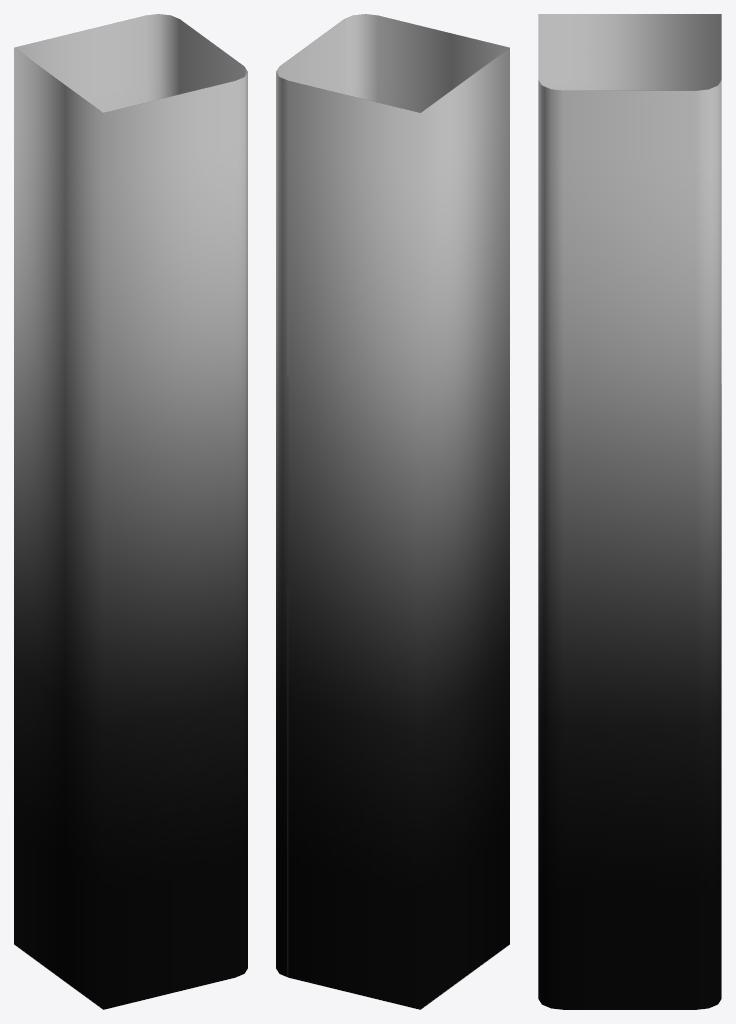
Rendered from Column.fbx.
3 renders of one model, left to right at view 1: azimuth 30°, elevation 25°; view 2: azimuth 150°, elevation 25°; view 3: azimuth 270°, elevation 25°, orthographic. The views are drawn at different scales.
Visible parts, largest first — view 1: Column; view 2: Column; view 3: Column.
Part boxes in pixels (left/top/right/bottom): Column: left=14, top=14, right=247, bottom=1009; Column: left=276, top=14, right=509, bottom=1009; Column: left=538, top=14, right=721, bottom=1009.
Bounding box in the file's own units: 0.3583 × 2 × 0.3609.
